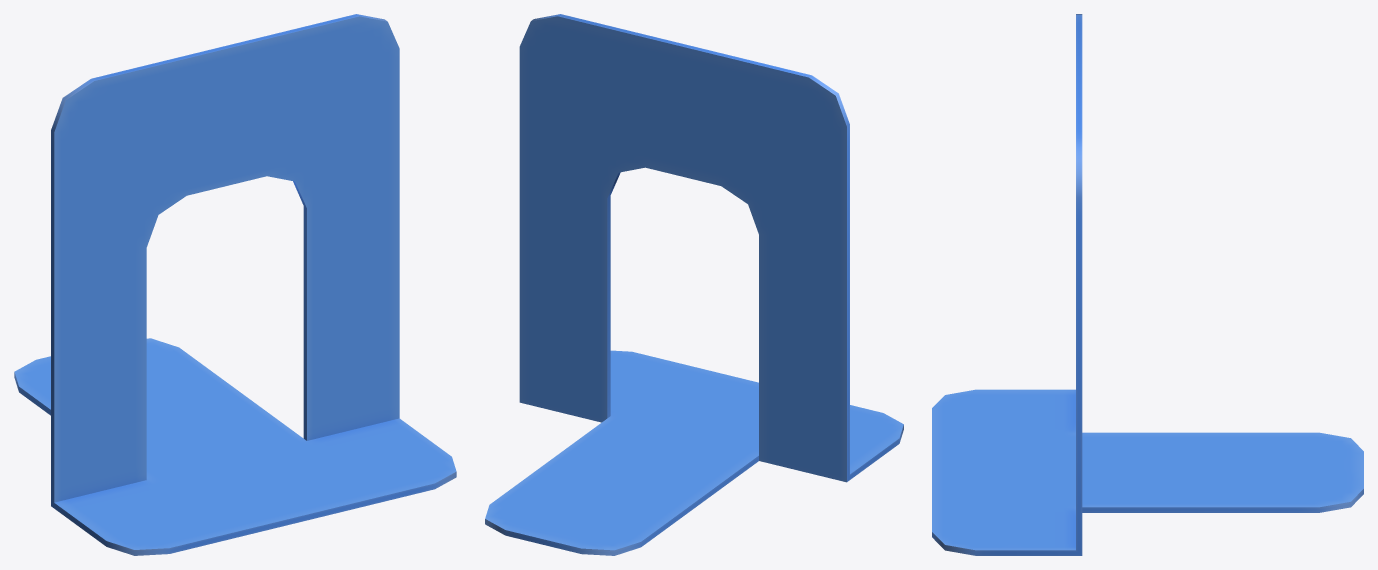
The model's file is jsf_BookEnd_01.fbx.
The picture shows the model from 3 angles, left to right: view 1: azimuth 30°, elevation 25°; view 2: azimuth 150°, elevation 25°; view 3: azimuth 270°, elevation 25°; orthographic projection. The views are drawn at different scales.
Visible parts, largest first — view 1: jsf_BookEnd_01; view 2: jsf_BookEnd_01; view 3: jsf_BookEnd_01.
Part boxes in pixels (x1,y1,x2,y2): jsf_BookEnd_01: [14, 14, 456, 555]; jsf_BookEnd_01: [485, 14, 903, 555]; jsf_BookEnd_01: [932, 14, 1363, 555].
Bounding box in the file's own units: 11.77 × 13.6 × 13.36.
